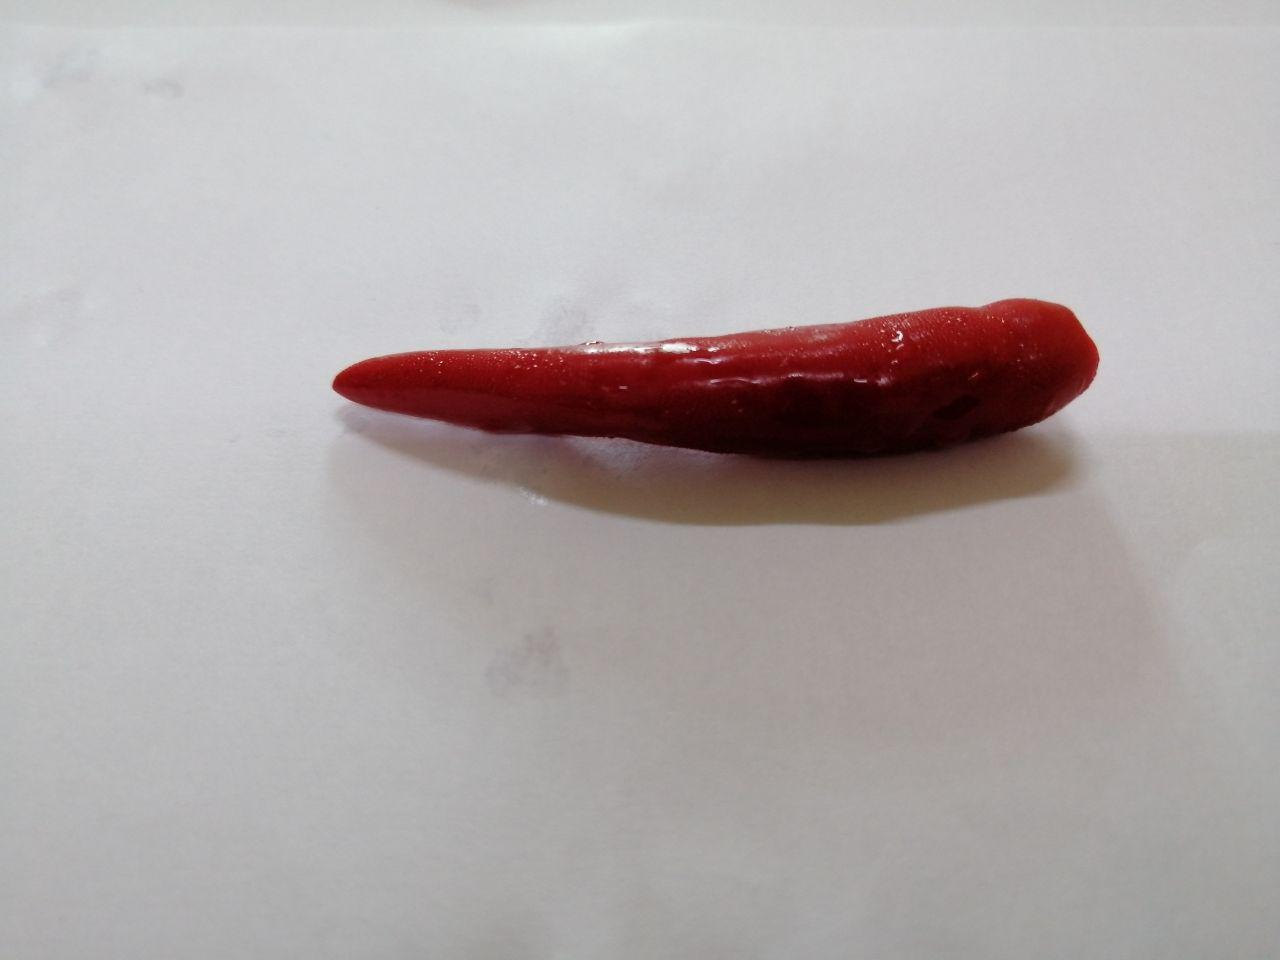lada merah: (330, 287, 1121, 502)
